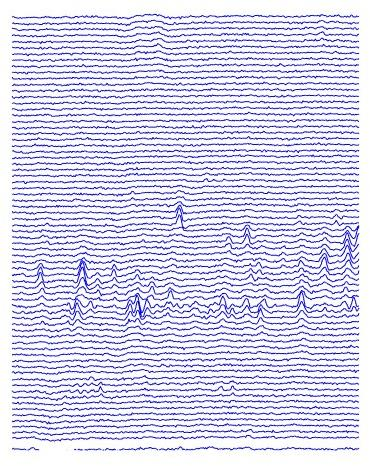defect: (124, 271, 176, 326), (199, 292, 267, 330), (335, 221, 360, 314), (67, 251, 101, 317), (290, 269, 310, 322), (224, 220, 255, 252), (171, 199, 193, 234), (33, 259, 47, 296), (319, 238, 329, 279)
